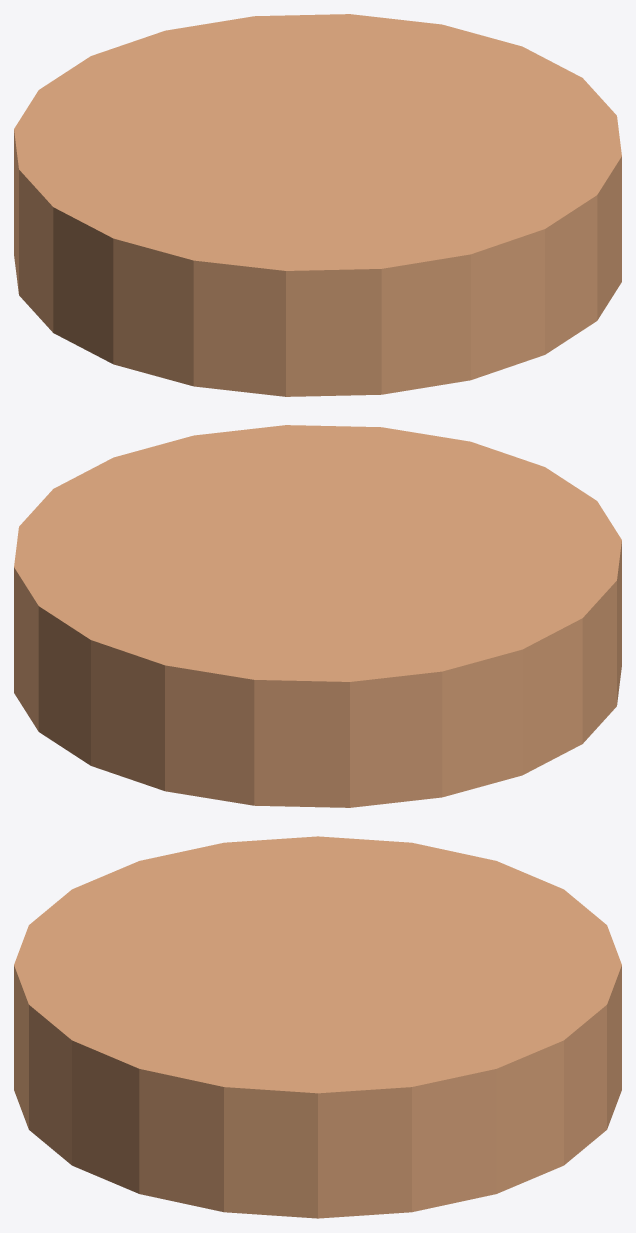
File: agate.glb
3 renders of one model, top to bottom at view 1: azimuth 30°, elevation 25°; view 2: azimuth 150°, elevation 25°; view 3: azimuth 270°, elevation 25°, orthographic.
Size of the model in its own units: 0.25 by 0.0568 by 0.25.
